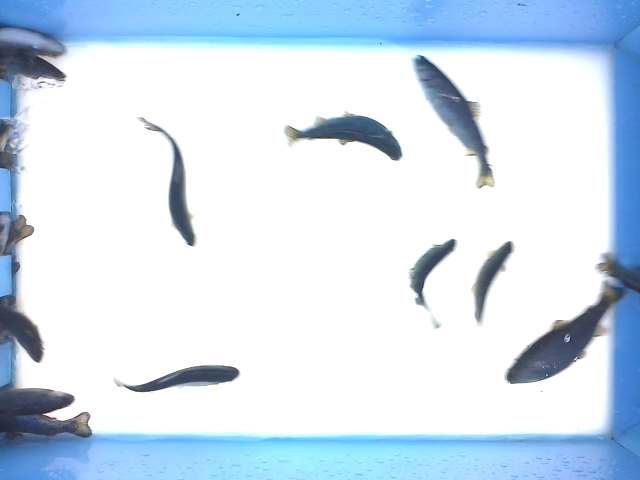fish: (504, 278, 628, 387), (410, 51, 496, 190), (133, 113, 198, 248), (280, 110, 405, 162), (407, 236, 459, 331), (111, 362, 243, 395), (470, 238, 516, 326)
